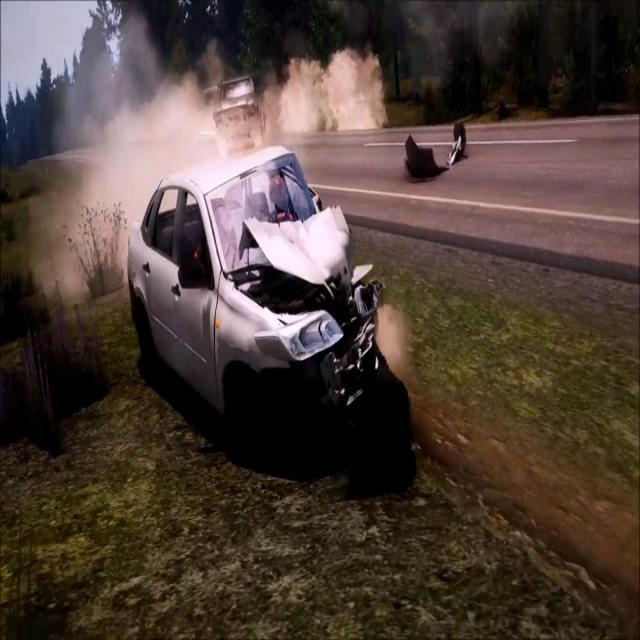accident: (120, 135, 388, 450)
